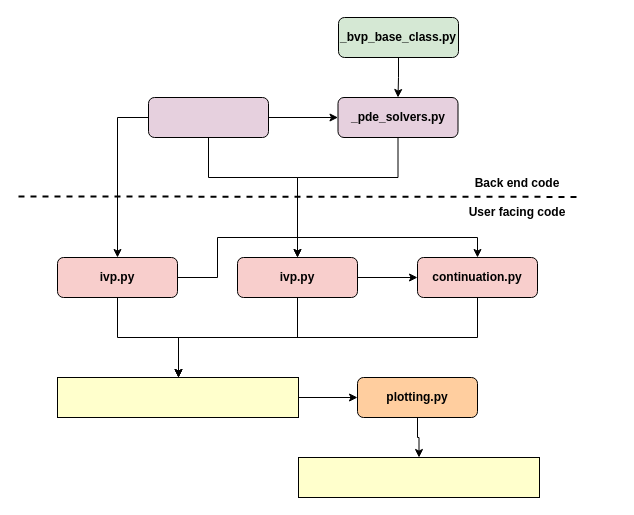
The diagram is 634 pixels wide and 515 high, and some of its shapes have lost their labels. Here are the shapes that lost their labels. From the top down, the box of each, then its label:
(148, 96, 268, 138): _ode_solvers.py
(56, 376, 298, 418): Numerical solutions
(298, 456, 540, 498): Graphical solutions
